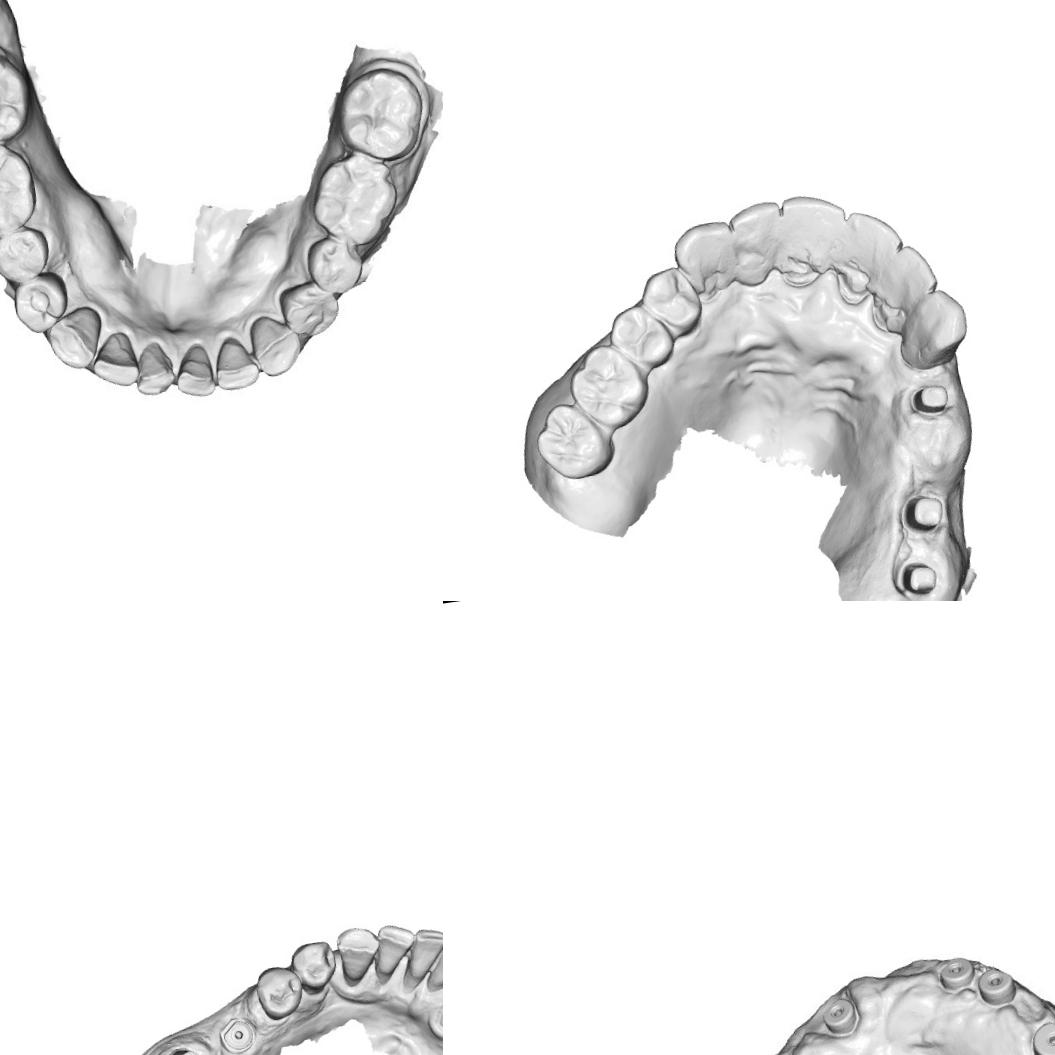abutment: (906, 375, 959, 430), (898, 489, 949, 538), (895, 554, 943, 601)
canine: (890, 284, 975, 374), (668, 218, 739, 294), (41, 302, 108, 377), (248, 306, 309, 384), (334, 924, 386, 986)
implant: (814, 990, 861, 1036), (970, 964, 1017, 1006), (216, 1013, 259, 1055), (936, 949, 976, 991), (1030, 1015, 1055, 1055)
incisor: (777, 188, 853, 268), (838, 204, 908, 281), (874, 239, 943, 312), (724, 198, 790, 274), (89, 326, 145, 392), (209, 332, 265, 389), (128, 339, 175, 404), (171, 340, 218, 404), (370, 920, 420, 978), (408, 924, 443, 973)
molar: (331, 62, 431, 170), (305, 146, 405, 250), (564, 339, 656, 436), (529, 396, 616, 486), (0, 141, 40, 240), (0, 46, 34, 146)
premolar: (604, 298, 680, 376), (634, 260, 706, 338), (280, 274, 344, 342), (303, 229, 365, 299), (7, 272, 69, 336), (0, 221, 54, 287), (253, 962, 306, 1023), (287, 938, 340, 996)
